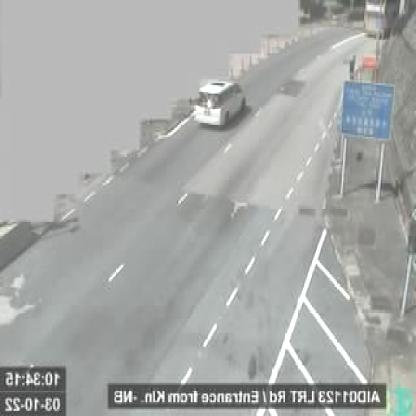Car: (195, 80, 250, 130)
